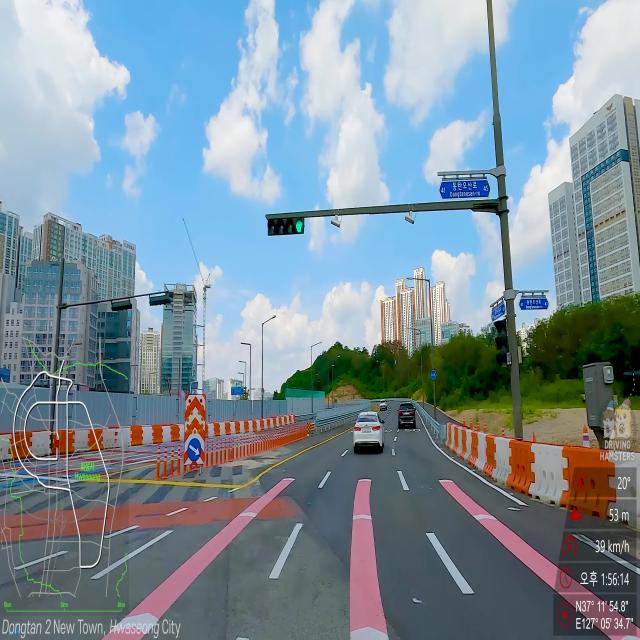Green Light: (294, 216, 304, 234)
